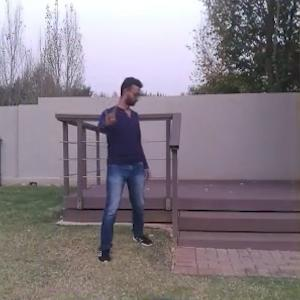takeoff-hand: (96, 98, 125, 130)
